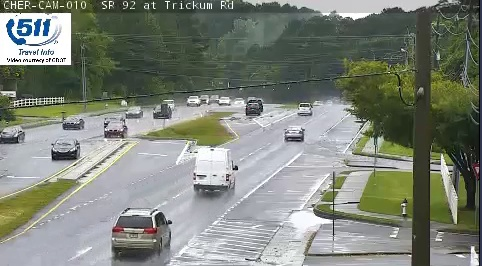car: (112, 209, 171, 250), (284, 126, 303, 139), (297, 103, 312, 115)
van: (194, 147, 234, 190)
